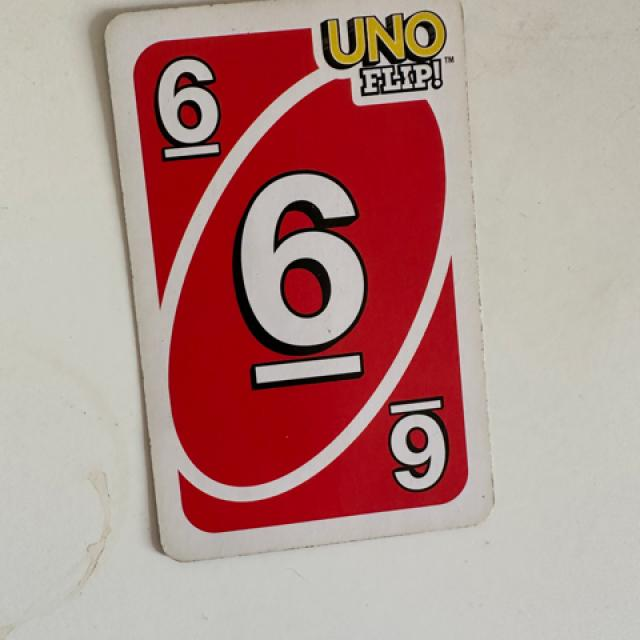lred-6: (124, 26, 248, 170)
